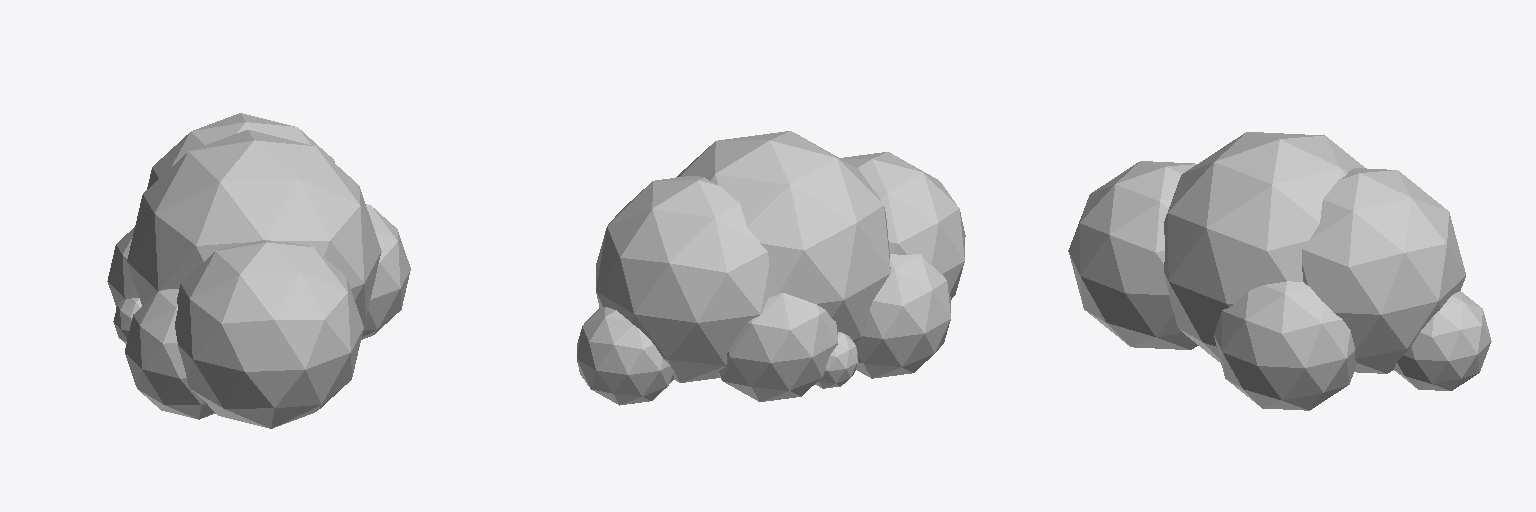
Rendered from Stone3.obj.
The picture shows the model from 3 angles: view 1: azimuth 30°, elevation 25°; view 2: azimuth 150°, elevation 25°; view 3: azimuth 270°, elevation 25°; orthographic projection.
Visible parts, largest first — view 1: Icosphere_003, Icosphere_010, Icosphere_002, Icosphere_006, Icosphere_007, Icosphere_005, Icosphere_009; view 2: Icosphere_007, Icosphere_010, Icosphere_005, Icosphere_002, Icosphere_003, Icosphere_004, Icosphere_009; view 3: Icosphere_010, Icosphere_007, Icosphere_003, Icosphere_006, Icosphere_004.
Part boxes in pixels (bbox=[...]): Icosphere_003: bbox=[175, 240, 363, 428]; Icosphere_010: bbox=[127, 130, 381, 321]; Icosphere_002: bbox=[125, 289, 215, 419]; Icosphere_006: bbox=[361, 204, 410, 339]; Icosphere_007: bbox=[147, 113, 334, 188]; Icosphere_005: bbox=[107, 227, 138, 307]; Icosphere_009: bbox=[113, 298, 141, 343]; Icosphere_007: bbox=[596, 175, 768, 382]; Icosphere_010: bbox=[676, 131, 890, 342]; Icosphere_005: bbox=[718, 293, 837, 401]; Icosphere_002: bbox=[855, 254, 950, 378]; Icosphere_003: bbox=[840, 152, 965, 299]; Icosphere_004: bbox=[577, 306, 674, 405]; Icosphere_009: bbox=[815, 332, 857, 388]; Icosphere_010: bbox=[1164, 132, 1364, 362]; Icosphere_007: bbox=[1302, 168, 1465, 373]; Icosphere_003: bbox=[1068, 161, 1198, 349]; Icosphere_006: bbox=[1214, 281, 1357, 410]; Icosphere_004: bbox=[1394, 291, 1491, 390].
Size of the model in its own units: 8.18 by 6.11 by 10.1.